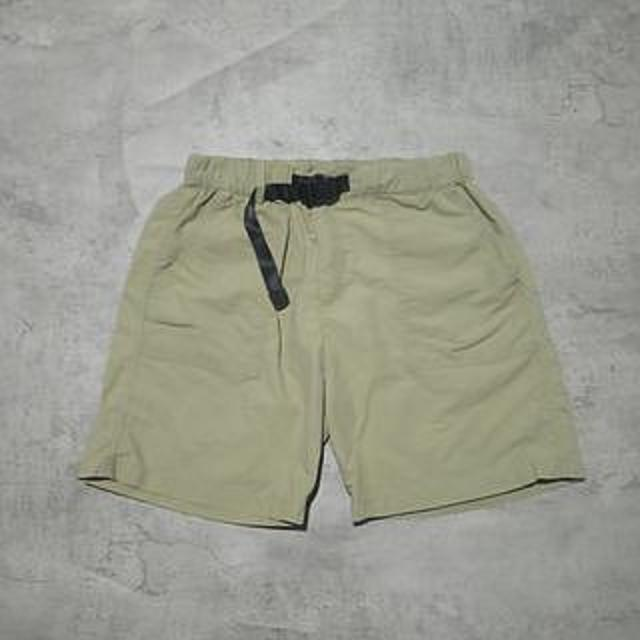SHORT: (66, 138, 610, 538)
